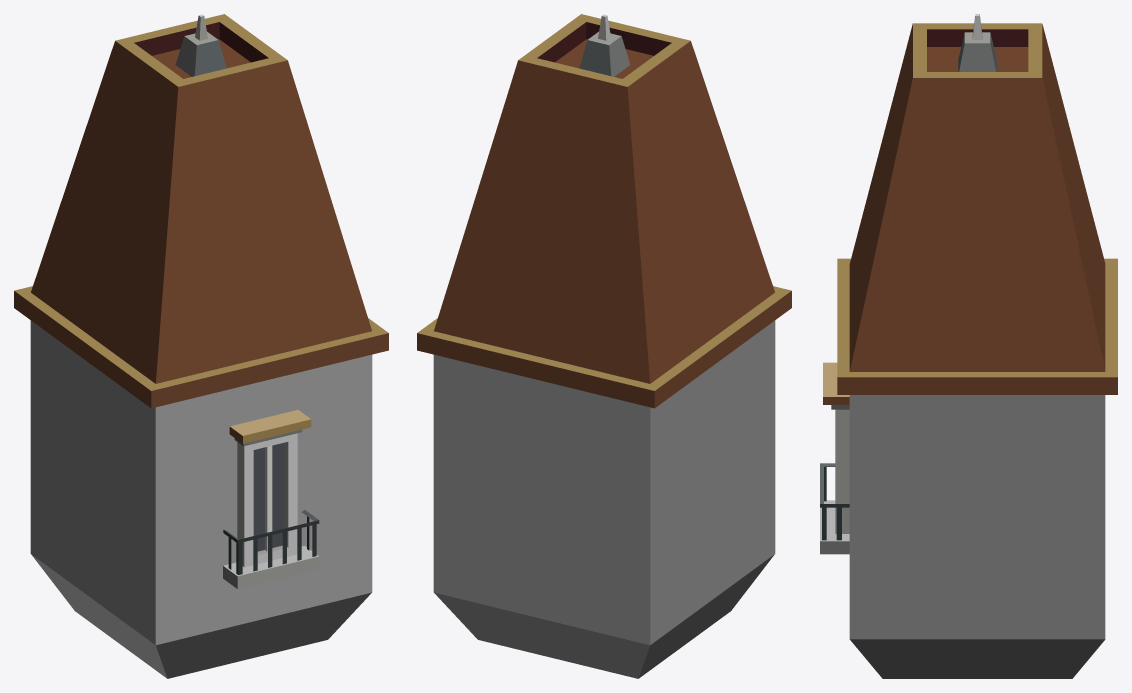
The model's file is TB_CITY_BD_Part_PT_C.FBX.
The picture shows the model from 3 angles, left to right: view 1: azimuth 30°, elevation 25°; view 2: azimuth 150°, elevation 25°; view 3: azimuth 270°, elevation 25°; orthographic projection. The views are drawn at different scales.
Parts seen in each view (by area): view 1: TB_CITY_BD_Part_PT_C; view 2: TB_CITY_BD_Part_PT_C; view 3: TB_CITY_BD_Part_PT_C.
Boxes of the visible parts, bbox=[...] form: TB_CITY_BD_Part_PT_C: bbox=[14, 14, 388, 678]; TB_CITY_BD_Part_PT_C: bbox=[417, 14, 791, 678]; TB_CITY_BD_Part_PT_C: bbox=[820, 14, 1117, 678].
Bounding box in the file's own units: 5.7 × 13.98 × 6.05.
